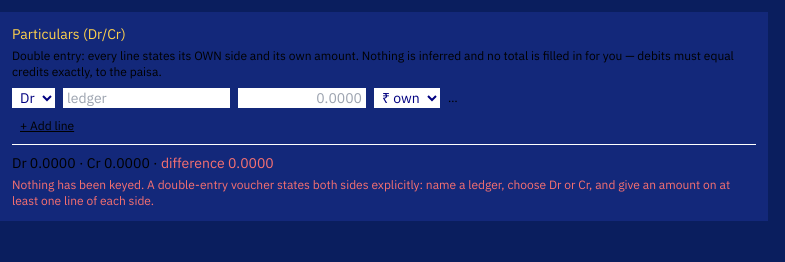
Test case: T8/8: the currency fields appear only when the company has a currency › ⛔ hides the foreign amount and rate until a currency is chosen
This screenshot has width=785, height=262.
Select "USD" in the dropdown with test id "de-currency:0". click: (407, 98)
box: [374, 88, 440, 108]
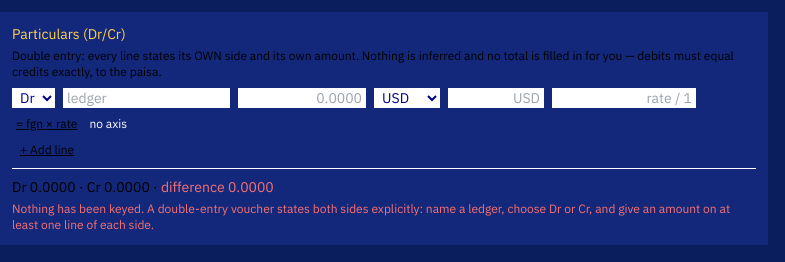
Expected: the field with test id "de-foreign:0" is shown, [448, 88, 544, 108]
Expected: the field with test id "de-rate:0" is shown, [552, 88, 696, 108]
